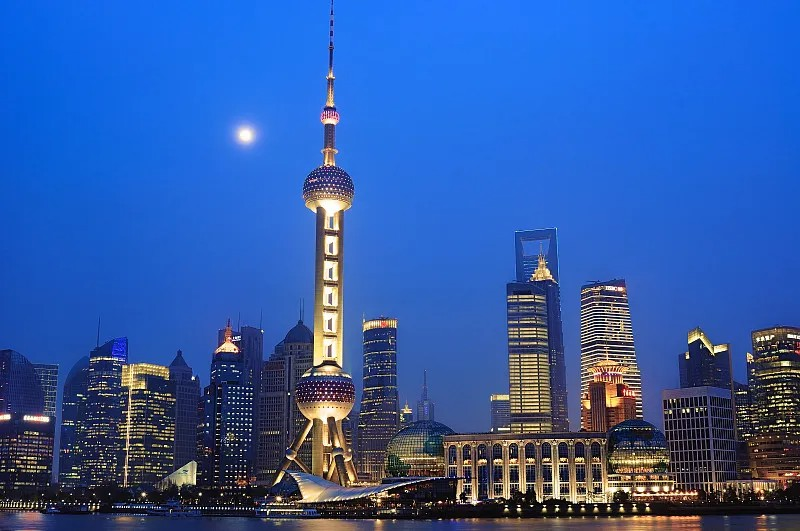Oriental: (272, 1, 360, 487)
